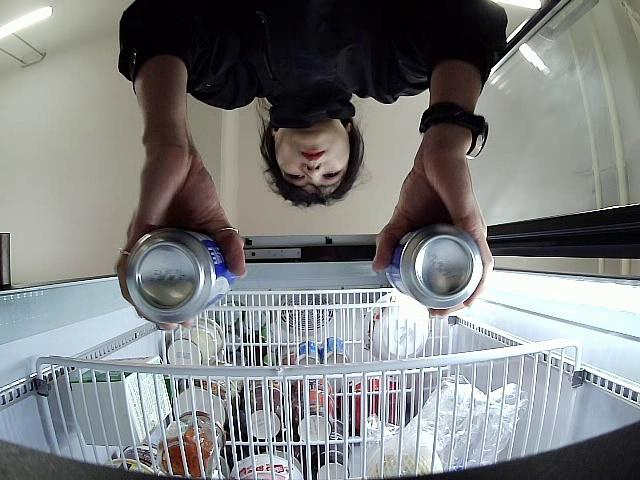00_hand: (115, 147, 247, 331), (371, 144, 494, 319)
13_pocariSweat: (126, 227, 239, 322), (384, 223, 484, 308)
